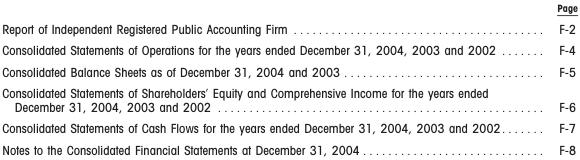table: (1, 1, 576, 157)
table column: (1, 1, 549, 157), (549, 1, 576, 157)
table column header: (1, 1, 576, 16)
table row: (1, 81, 576, 117), (1, 16, 576, 38), (1, 38, 576, 60), (1, 60, 576, 81), (1, 117, 576, 138), (1, 138, 576, 157), (1, 1, 576, 16)
